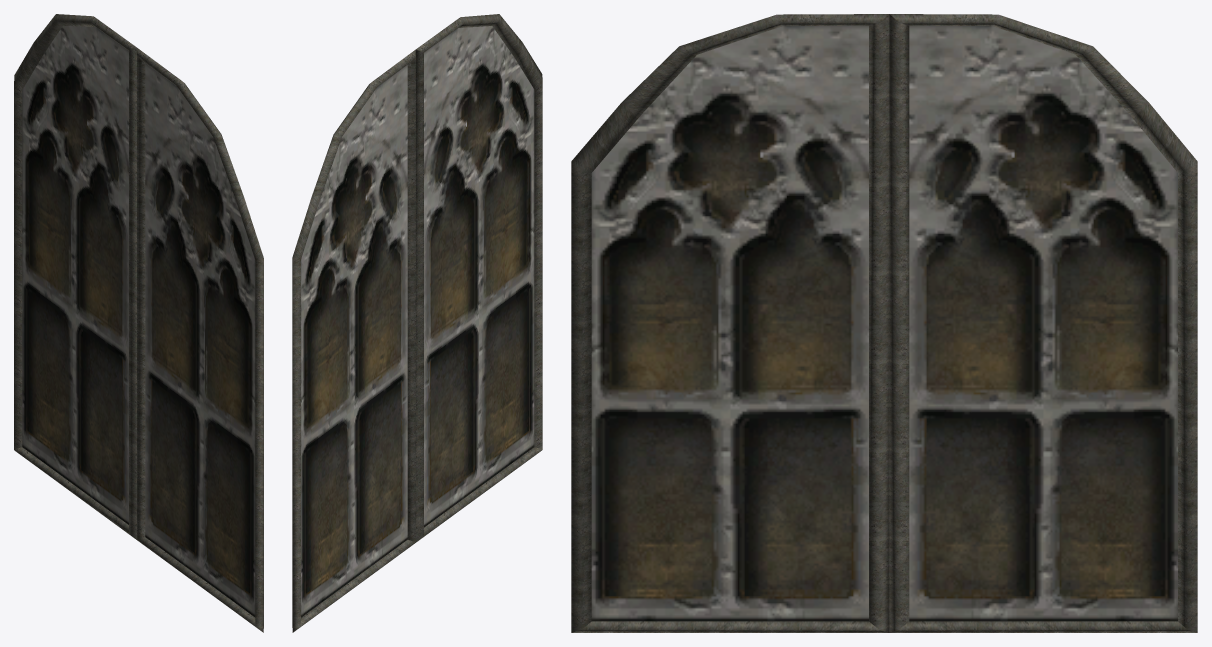
The model's file is MAINHALL_DOOR06.fbx.
3 views of the same model, side by side, from view 1: azimuth 30°, elevation 25°; view 2: azimuth 150°, elevation 25°; view 3: azimuth 270°, elevation 25° (orthographic). The views are drawn at different scales.
Visible parts, largest first — view 1: MAINHALL_DOOR06; view 2: MAINHALL_DOOR06; view 3: MAINHALL_DOOR06.
Boxes of the visible parts, x1,y1,x2,y2 form: MAINHALL_DOOR06: [14, 14, 263, 632]; MAINHALL_DOOR06: [292, 14, 542, 632]; MAINHALL_DOOR06: [571, 14, 1197, 632].
Bounding box in the file's own units: 913 × 49853 × 45724.
Materials: 2 (2 with a texture image).
